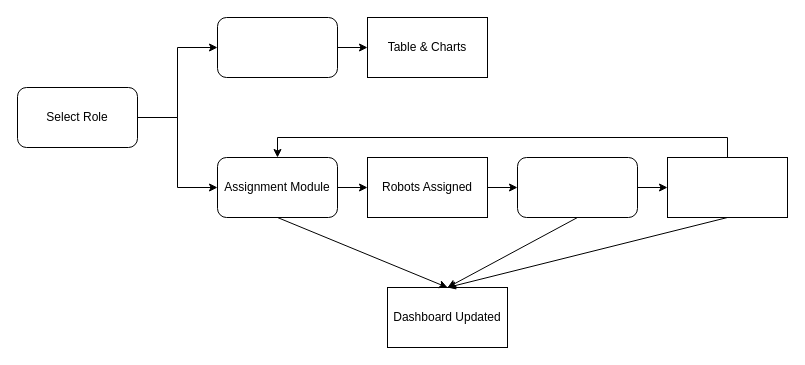
The diagram is 805 pixels wide and 365 high, and some of its shapes have lost their labels. Each missing label, with the centre of its shape:
Dashboard: the point at 277,47
Robots Clean: the point at 577,187
Task Complete: the point at 727,187
